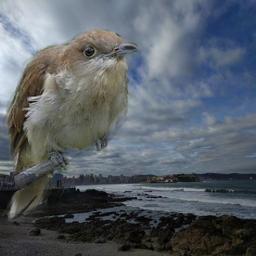Cuckoo: (2, 27, 138, 222)
